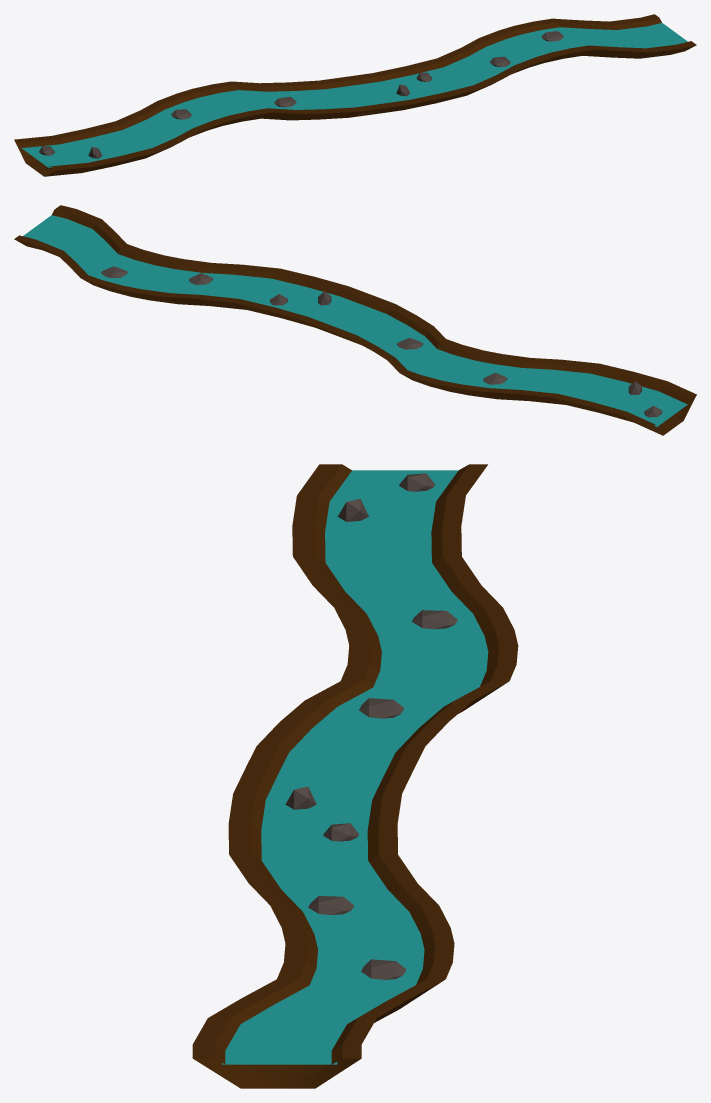
Rendered from TT_Japanese_River.fbx.
3 views of the same model, one above another, from view 1: azimuth 30°, elevation 25°; view 2: azimuth 150°, elevation 25°; view 3: azimuth 270°, elevation 25° (orthographic). The views are drawn at different scales.
Parts seen in each view (by area): view 1: River; view 2: River; view 3: River.
Part boxes in pixels (x1=…): River: x1=14, y1=14, x2=696, y2=176; River: x1=14, y1=205, x2=696, y2=435; River: x1=192, y1=464, x2=518, y2=1088.
Size of the model in its own units: 1558 by 49.61 by 361.
